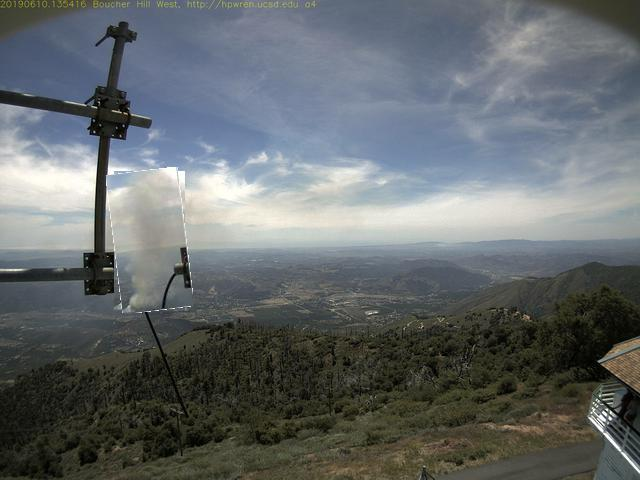smoke: (111, 170, 191, 314)
